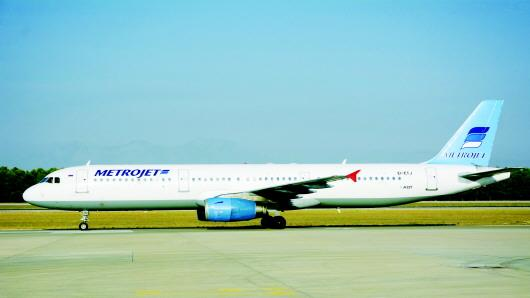airplane: (21, 89, 517, 235)
